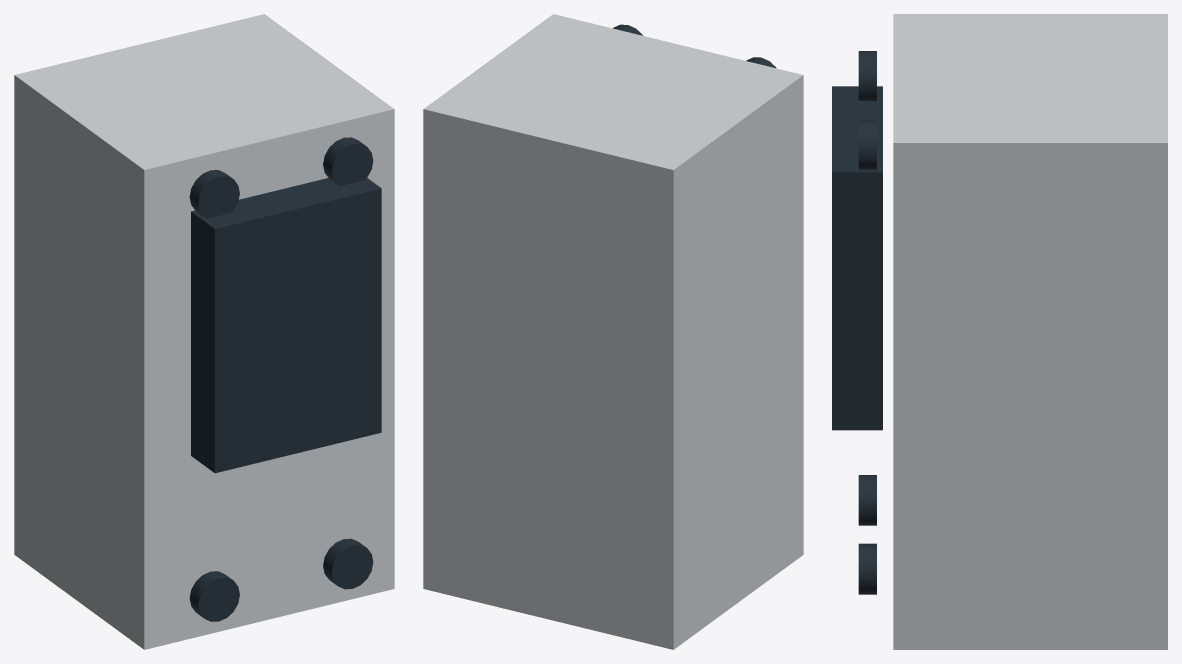
3 renders of one model, left to right at view 1: azimuth 30°, elevation 25°; view 2: azimuth 150°, elevation 25°; view 3: azimuth 270°, elevation 25°, orthographic. The views are drawn at different scales.
Visible parts, largest first — view 1: 马达保护器辅助触点; view 2: 马达保护器辅助触点; view 3: 马达保护器辅助触点.
Boxes of the visible parts, x1,y1,x2,y2 form: 马达保护器辅助触点: (14, 14, 394, 649); 马达保护器辅助触点: (423, 14, 803, 649); 马达保护器辅助触点: (832, 14, 1167, 649).
Bounding box in the file's own units: 0.3 × 0.55 × 0.33.
